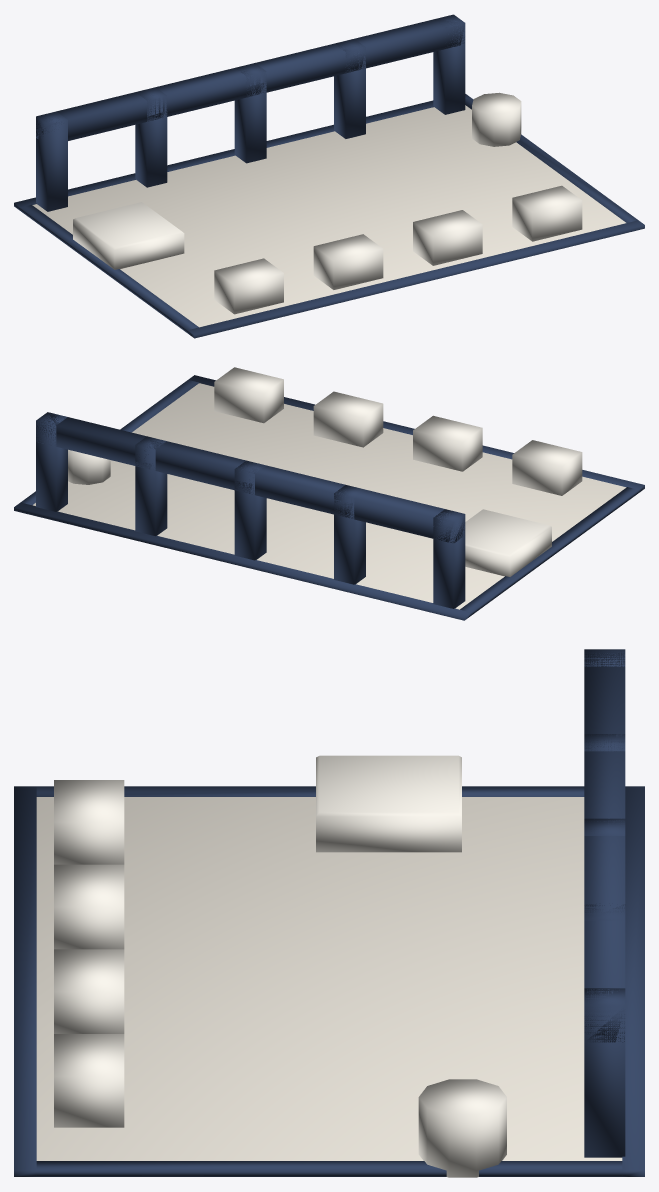
Rendered from subestacao-no.glb.
The picture shows the model from 3 angles, top to bottom: view 1: azimuth 30°, elevation 25°; view 2: azimuth 150°, elevation 25°; view 3: azimuth 270°, elevation 25°; orthographic projection. The views are drawn at different scales.
Parts seen in each view (by area): view 1: subestacao-no; view 2: subestacao-no; view 3: subestacao-no.
Boxes of the visible parts, x1,y1,x2,y2 form: subestacao-no: (14,14,644,338); subestacao-no: (14,367,644,620); subestacao-no: (14,649,644,1177).
Bounding box in the file's own units: 136 × 26 × 94.4.
